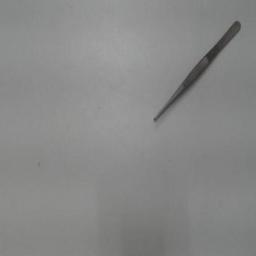Gillies Toothed Dissector: (149, 14, 245, 126)
